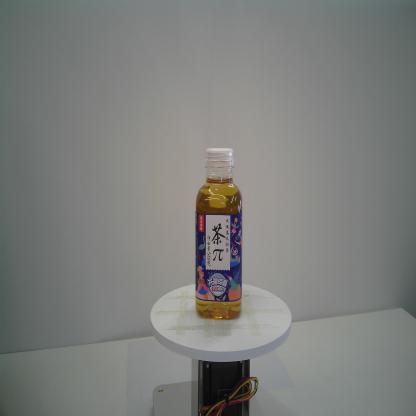Drink: (194, 146, 244, 320)
